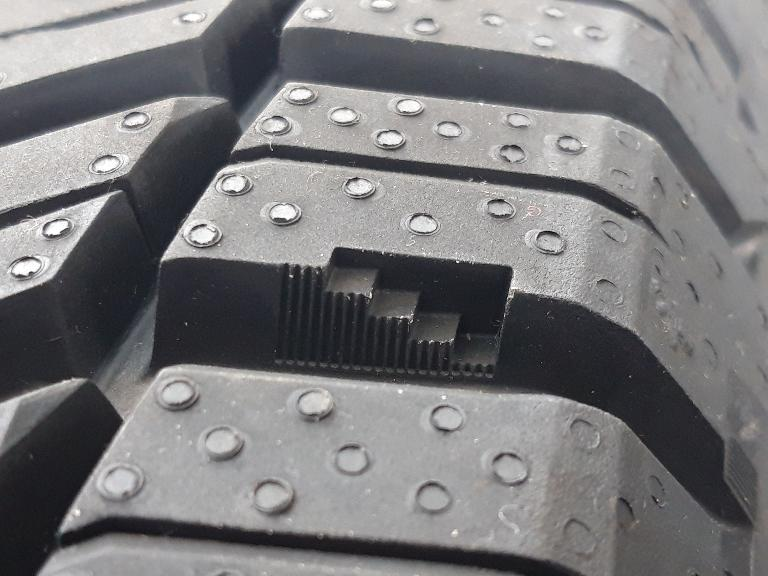temoin:100: (267, 237, 523, 390)
